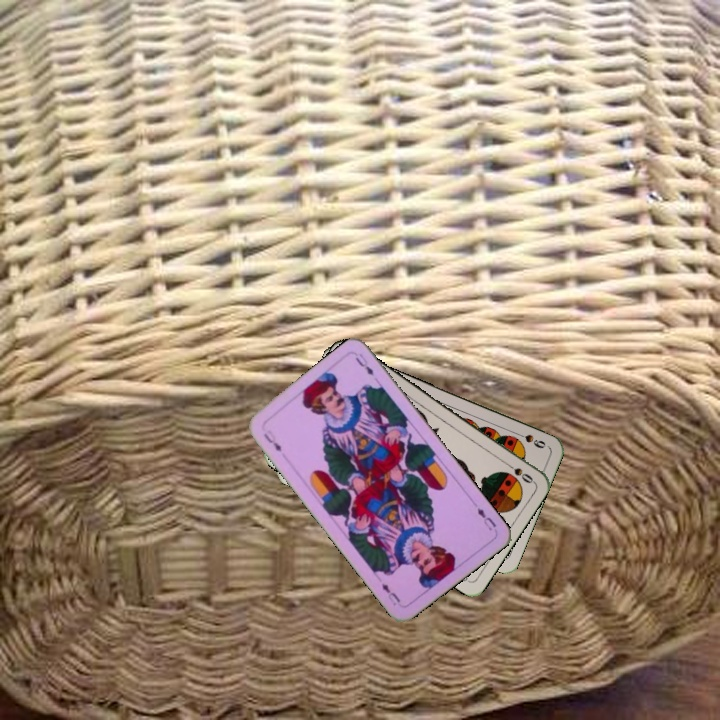EU: (473, 503, 499, 533), (259, 425, 284, 455)
S9: (511, 428, 548, 451)
SO: (500, 458, 536, 486)
